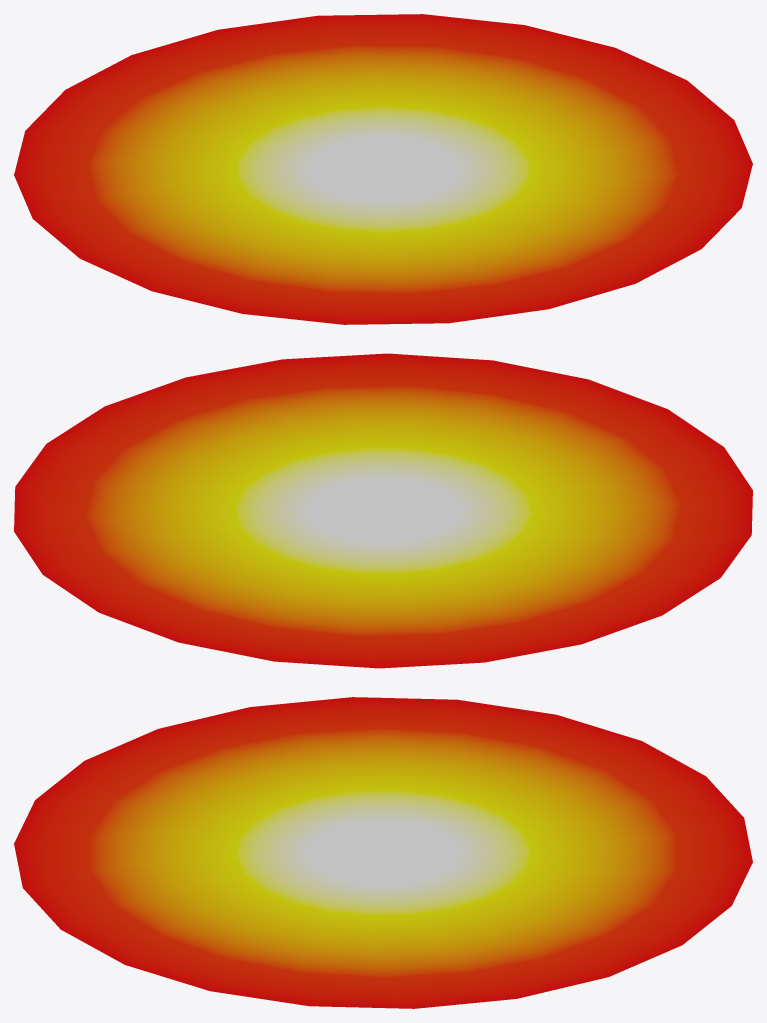
The model's file is y_yuanpan003.FBX.
The picture shows the model from 3 angles, top to bottom: view 1: azimuth 30°, elevation 25°; view 2: azimuth 150°, elevation 25°; view 3: azimuth 270°, elevation 25°; orthographic projection.
Parts seen in each view (by area): view 1: Cylinder001; view 2: Cylinder001; view 3: Cylinder001.
Boxes of the visible parts, x1,y1,x2,y2 form: Cylinder001: (14,14,752,324); Cylinder001: (14,353,752,668); Cylinder001: (14,697,752,1008).
Size of the model in its own units: 78.33 by 6.74e-06 by 78.47.
